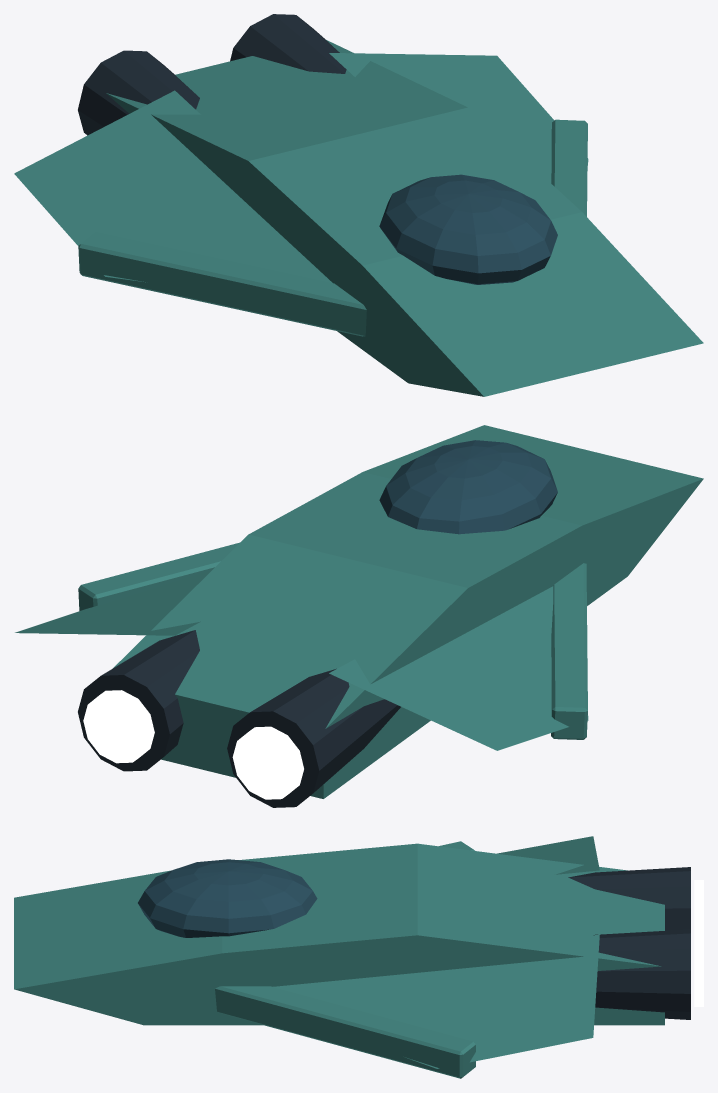
The model's file is space-scout.lod0.glb.
3 renders of one model, top to bottom at view 1: azimuth 30°, elevation 25°; view 2: azimuth 150°, elevation 25°; view 3: azimuth 270°, elevation 25°, orthographic. The views are drawn at different scales.
Visible parts, largest first — view 1: space-scout__body; view 2: space-scout__body; view 3: space-scout__body.
Boxes of the visible parts, <box> form: space-scout__body: <box>14,14,703,396</box>; space-scout__body: <box>15,425,703,807</box>; space-scout__body: <box>14,836,703,1078</box>.
Size of the model in its own units: 2.78 by 0.692 by 3.82.
